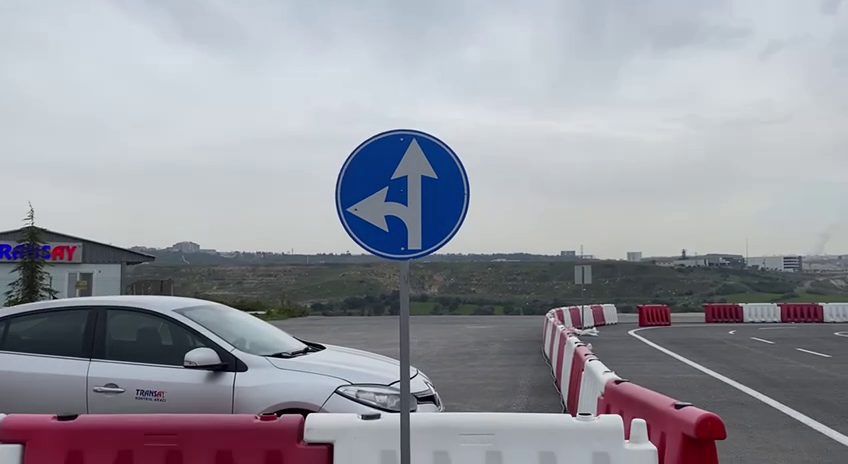forwardAndLeft: (333, 127, 473, 263)
